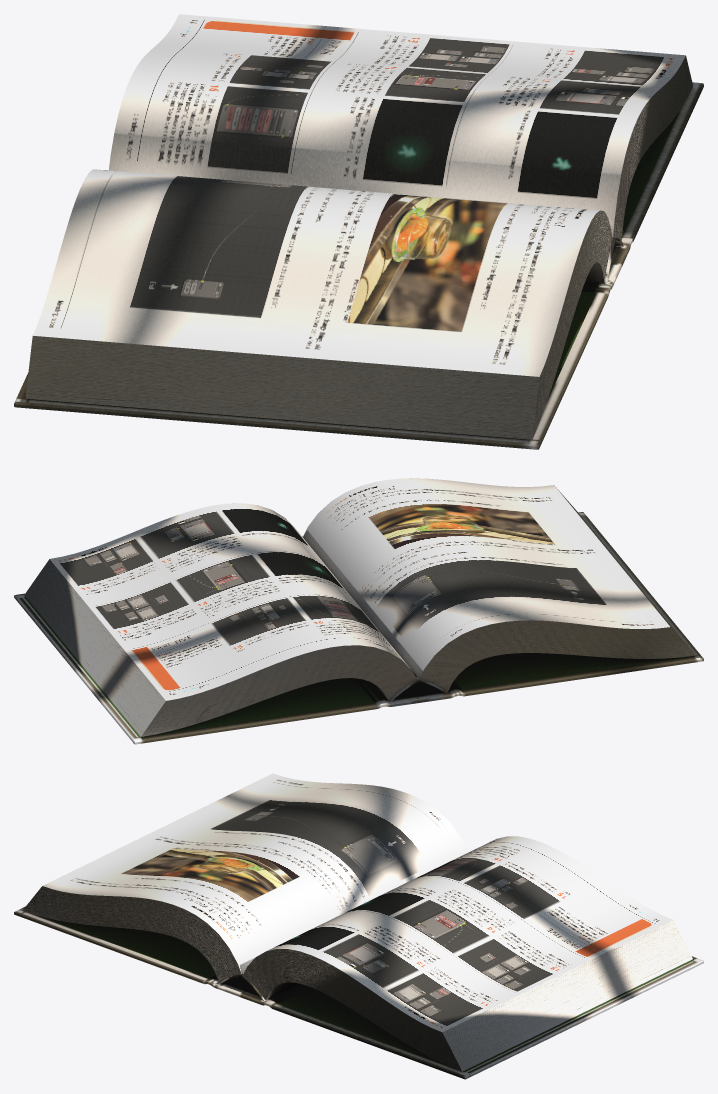
3 views of the same model, one above another, from view 1: azimuth 30°, elevation 25°; view 2: azimuth 150°, elevation 25°; view 3: azimuth 270°, elevation 25° (orthographic). The views are drawn at different scales.
Parts seen in each view (by area): view 1: BezierCurve_Mesh.001; view 2: BezierCurve_Mesh.001; view 3: BezierCurve_Mesh.001.
Part boxes in pixels (x1,y1,x2,y2): BezierCurve_Mesh.001: (14, 14, 703, 449); BezierCurve_Mesh.001: (14, 478, 703, 744); BezierCurve_Mesh.001: (14, 773, 703, 1079).
Bounding box in the file's own units: 0.4224 × 0.0456 × 0.4373.
1 material, 1 textured.
